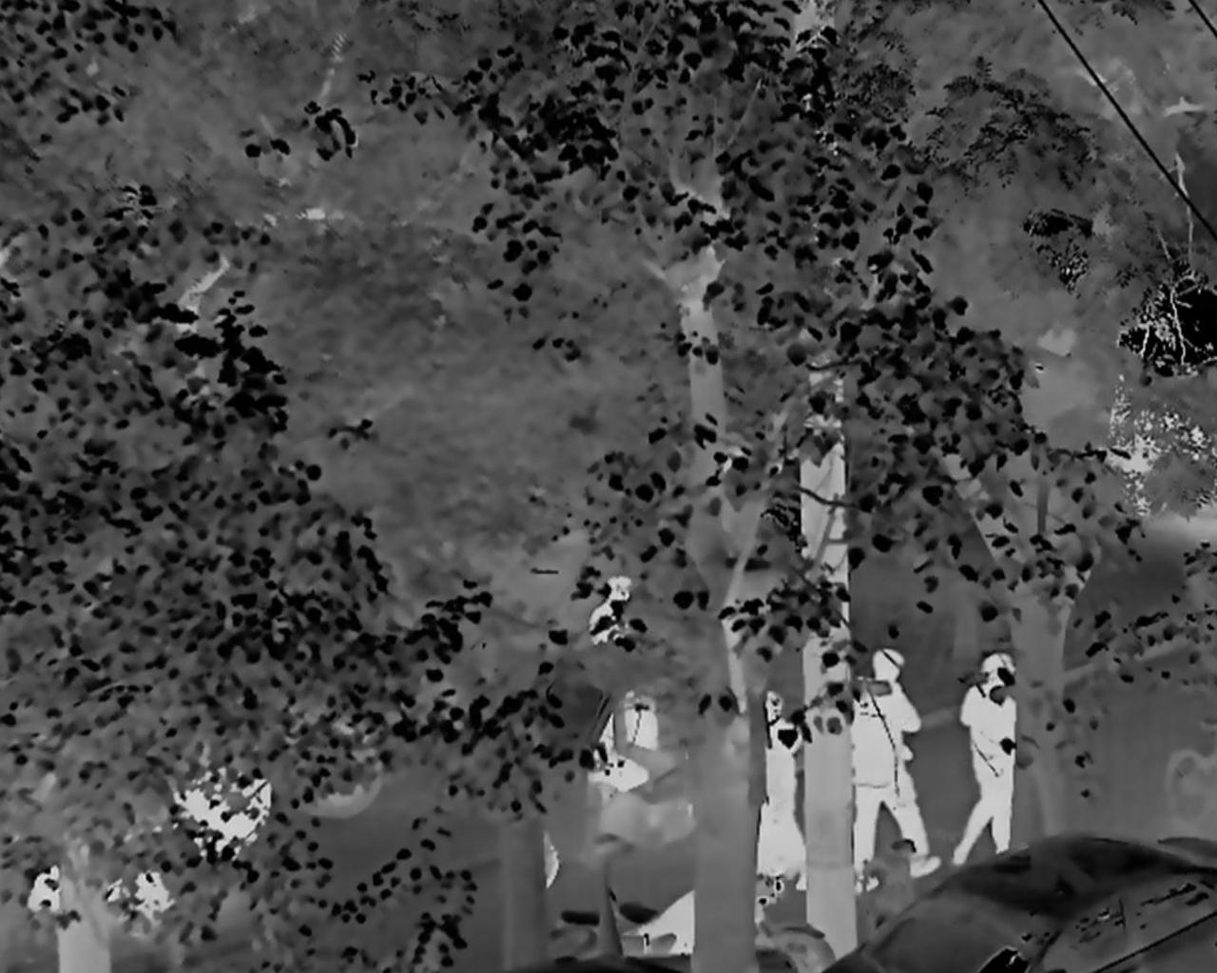person: (850, 644, 944, 888), (951, 652, 1014, 862), (756, 689, 808, 890), (586, 574, 635, 642)
